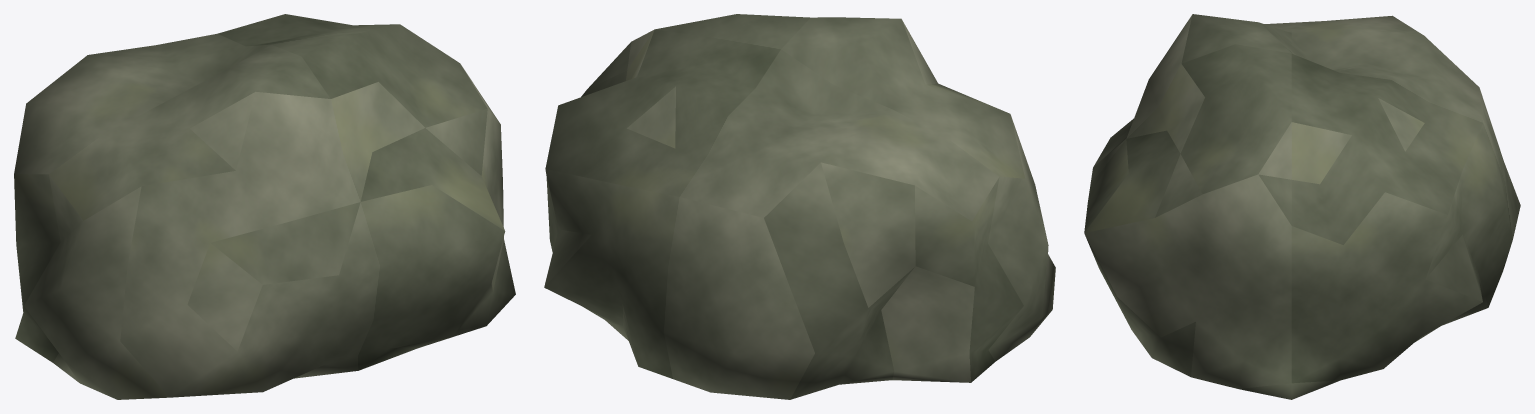
File: Rock_Medium_3_LOD1.gltf
3 renders of one model, left to right at view 1: azimuth 30°, elevation 25°; view 2: azimuth 150°, elevation 25°; view 3: azimuth 270°, elevation 25°, orthographic. The views are drawn at different scales.
Parts seen in each view (by area): view 1: Rock_Medium_3_LOD1; view 2: Rock_Medium_3_LOD1; view 3: Rock_Medium_3_LOD1.
Boxes of the visible parts, x1,y1,x2,y2 form: Rock_Medium_3_LOD1: (14,14,515,399); Rock_Medium_3_LOD1: (544,14,1055,399); Rock_Medium_3_LOD1: (1084,14,1520,399).
Bounding box in the file's own units: 1.89 × 1.13 × 1.65.
Materials: 1 (1 with a texture image).
